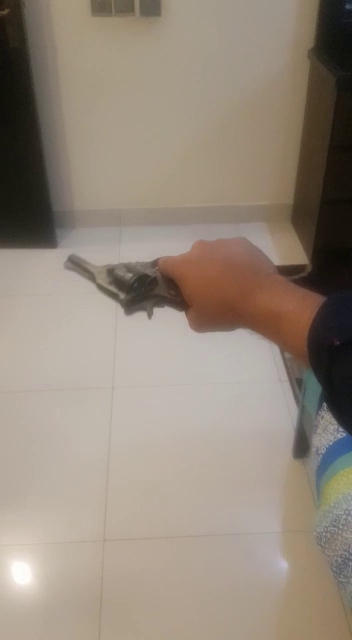handgun: (56, 242, 177, 336)
